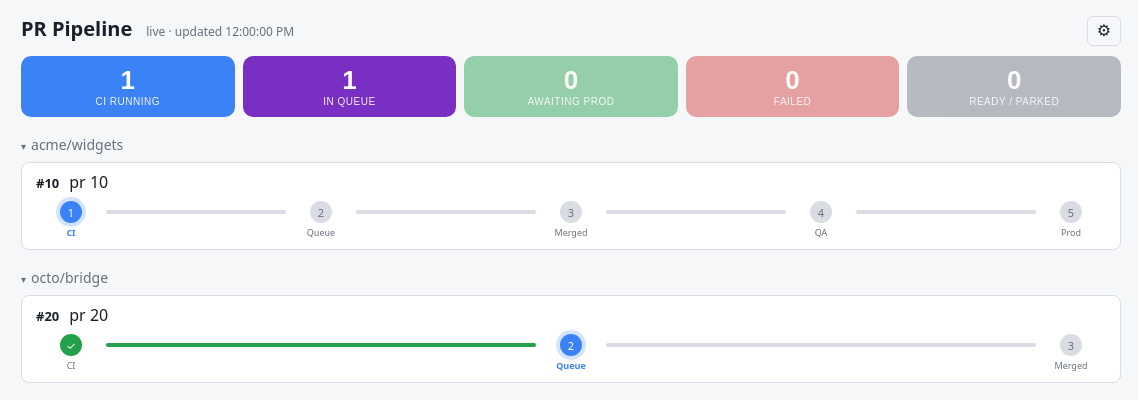
App › StatusStrip filter collapses repos with zero matching PRs to show (n hidden)
This screenshot has width=1138, height=400.
Click the button "1 CI running": point(128, 87) [21,56,235,117]
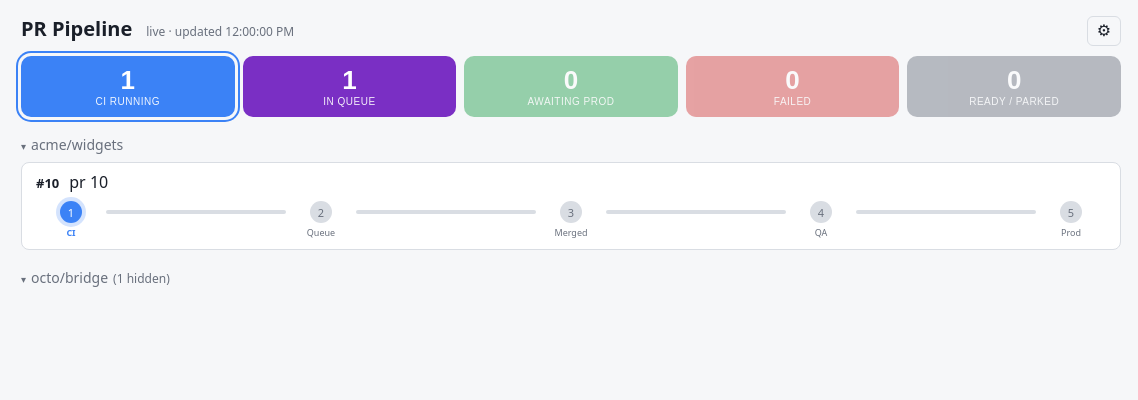
Check: the text "#10" is shown, box [36,174,59,192]
Check: the text "(1 hidden)" is shown, box [113,270,170,287]
Check: the text "#20" is gone
